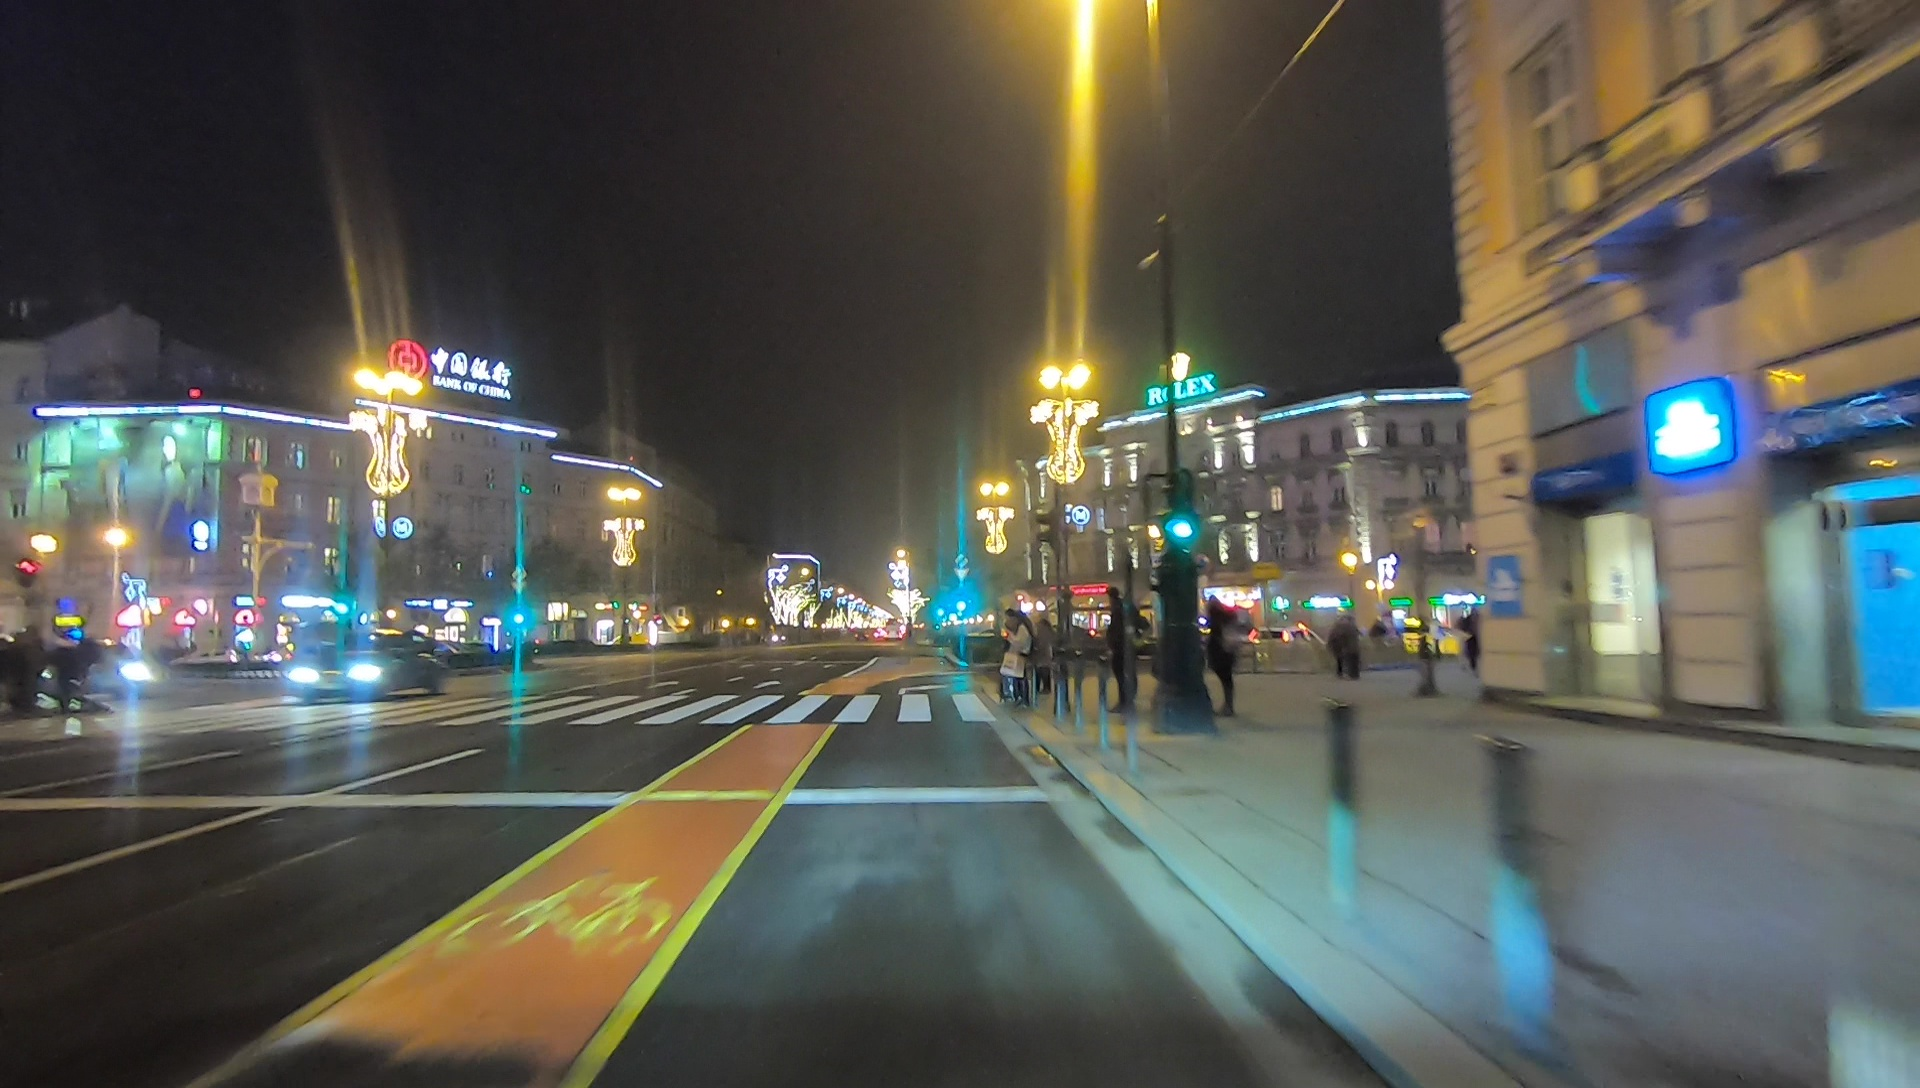person: (1201, 593, 1249, 717), (1104, 591, 1141, 710), (1002, 610, 1032, 704), (1326, 613, 1362, 680), (1036, 617, 1052, 693)
